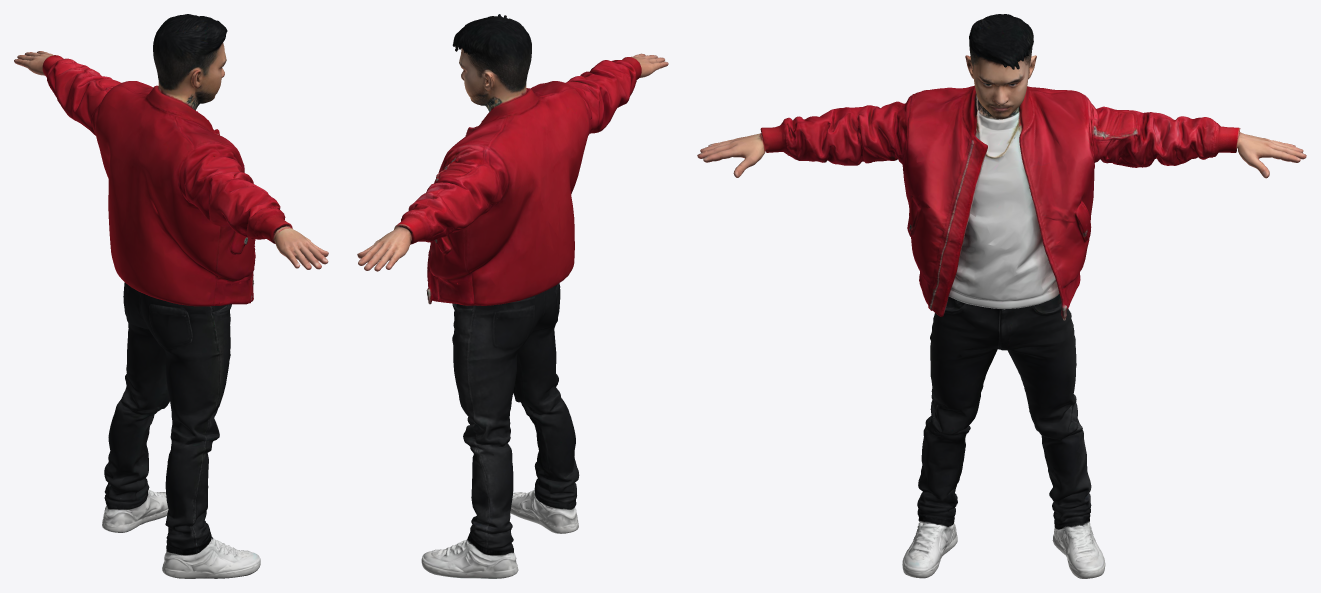
File: master.glb
3 views of the same model, side by side, from view 1: azimuth 30°, elevation 25°; view 2: azimuth 150°, elevation 25°; view 3: azimuth 270°, elevation 25° (orthographic). The views are drawn at different scales.
Visible parts, largest first — view 1: w_tp_gun_bomber; view 2: w_tp_gun_bomber; view 3: w_tp_gun_bomber.
Part boxes in pixels (x1,y1,x2,y2): w_tp_gun_bomber: [14, 14, 328, 578]; w_tp_gun_bomber: [357, 14, 668, 578]; w_tp_gun_bomber: [697, 14, 1306, 578].
Size of the model in its own units: 0.3862 by 1.8 by 1.82.
1 material, 1 textured.
